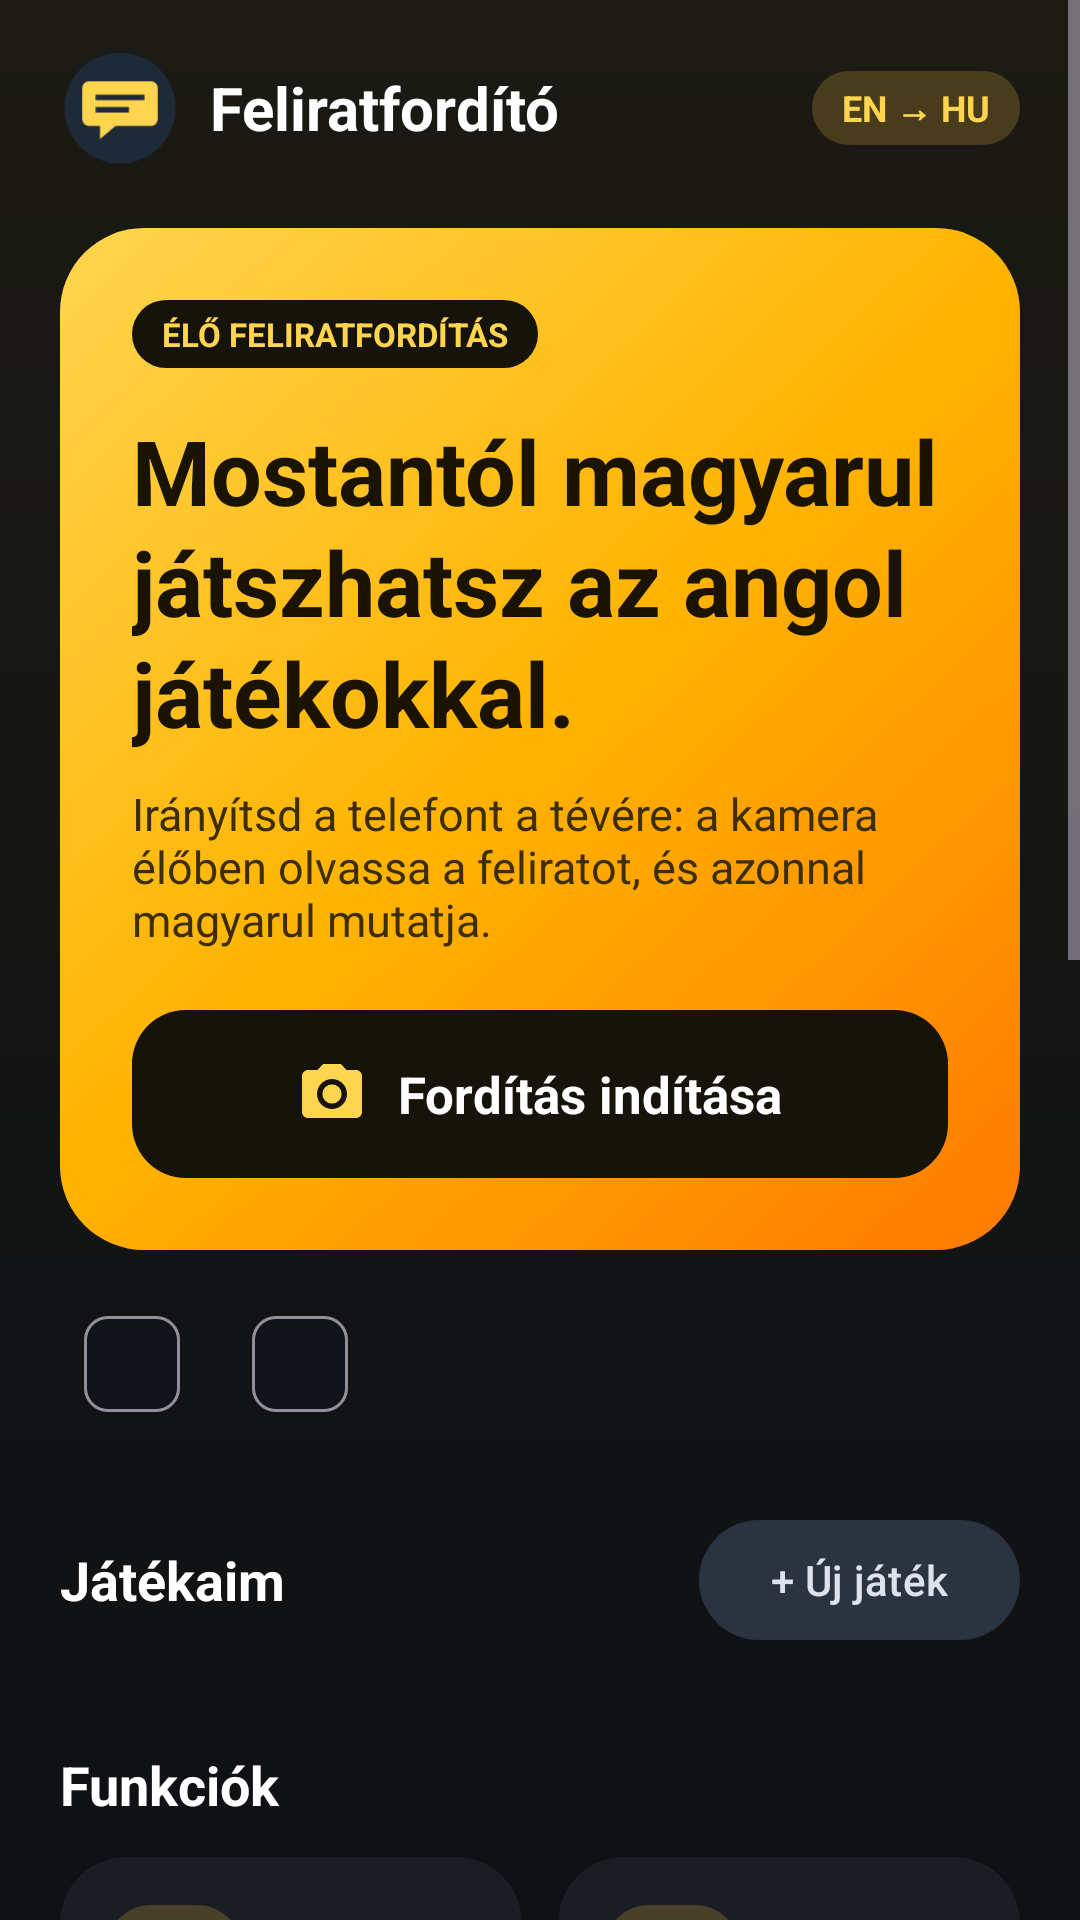

Locate icon controls on the screen. Image size 1080x1920, boxes as (x1, y1, x2, y2).
camera: (302, 1064, 362, 1118)
